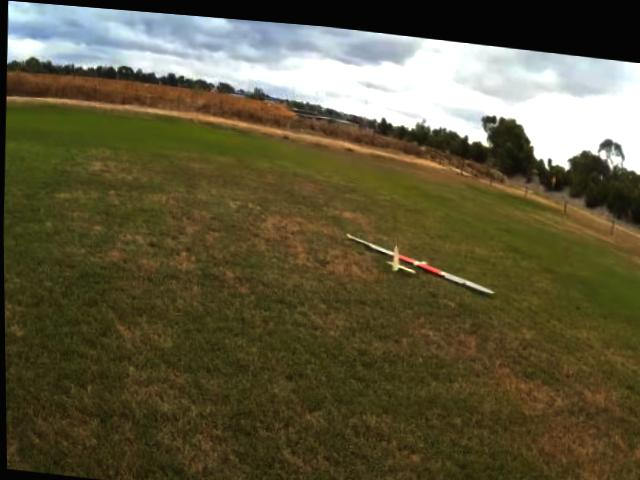uav: (335, 214, 501, 303)
